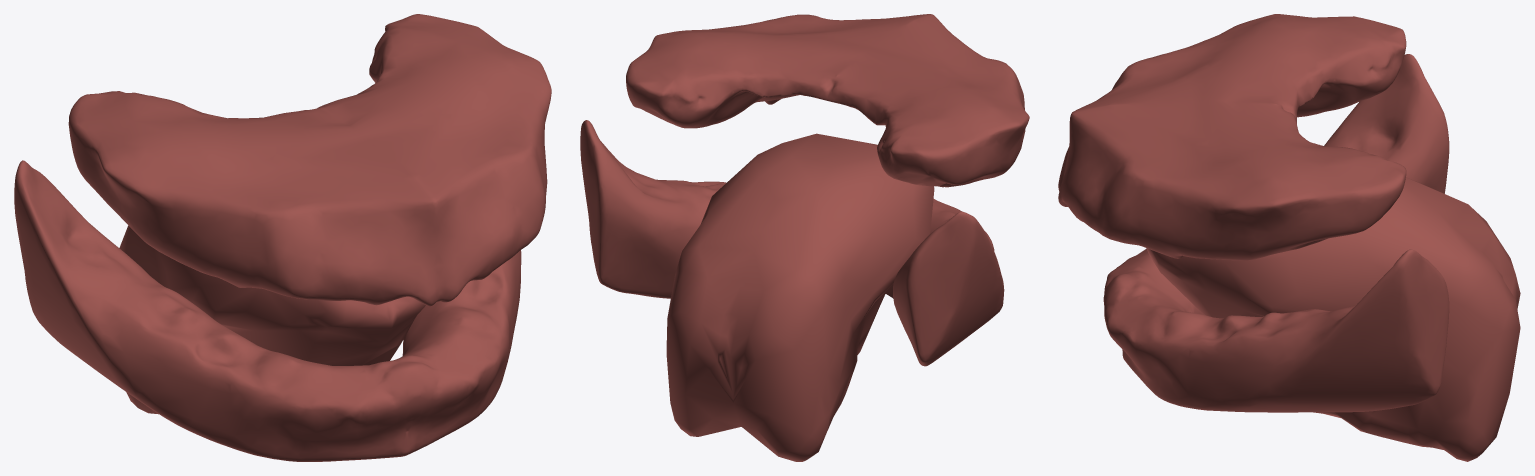
File: boca.glb
The picture shows the model from 3 angles, left to right: view 1: azimuth 30°, elevation 25°; view 2: azimuth 150°, elevation 25°; view 3: azimuth 270°, elevation 25°; orthographic projection. The views are drawn at different scales.
Visible parts, largest first — view 1: Gingiva, Tongue; view 2: Gingiva, Tongue; view 3: Gingiva, Tongue.
Part boxes in pixels (x1,y1,x2,y2): Gingiva: [14, 14, 551, 461]; Tongue: [119, 225, 425, 414]; Gingiva: [580, 14, 1029, 366]; Tongue: [666, 133, 934, 461]; Gingiva: [1058, 14, 1449, 412]; Tongue: [1146, 177, 1520, 461].
Size of the model in its own units: 0.0735 by 0.056 by 0.0696.
